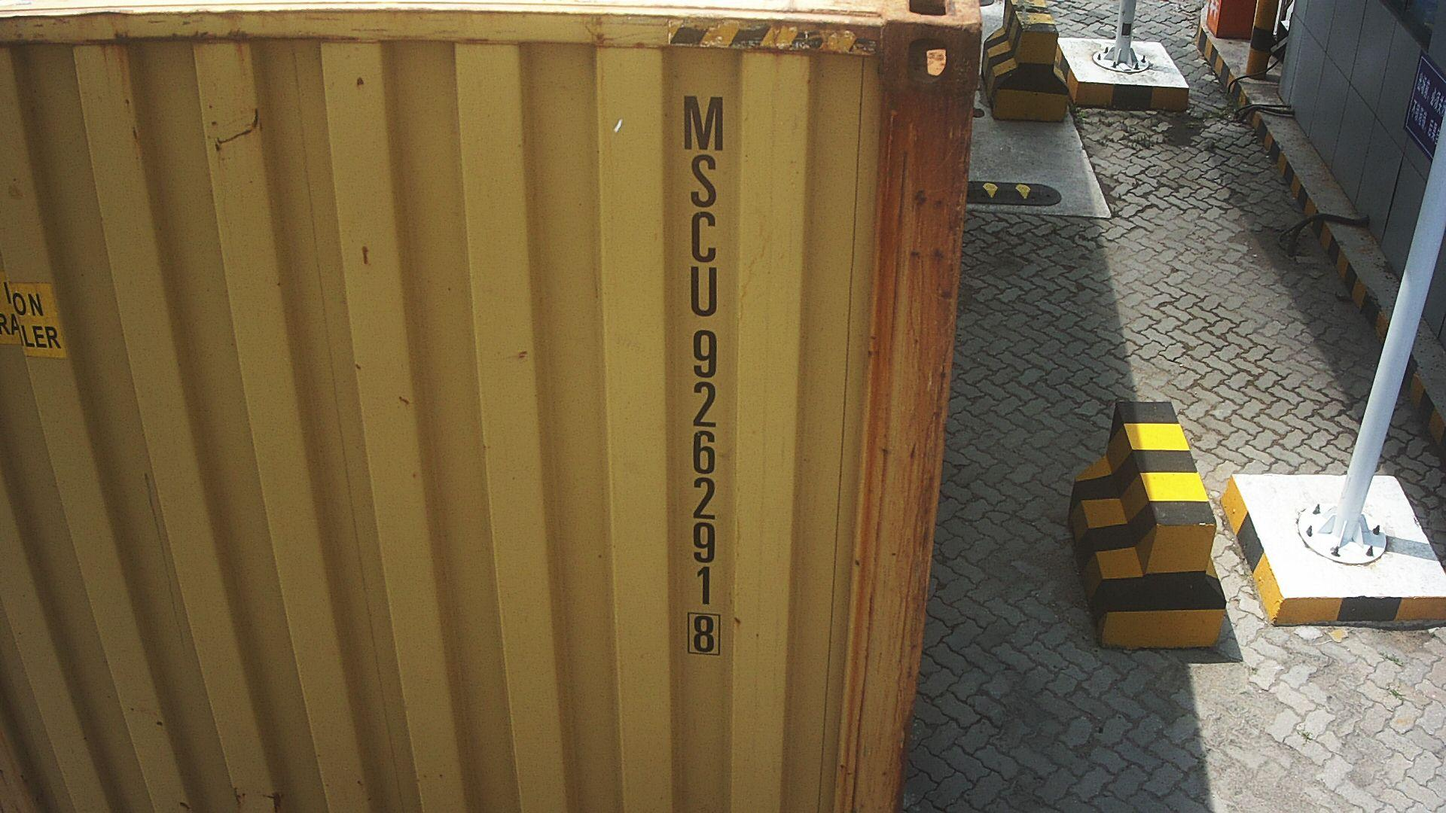container-numbers: (674, 87, 734, 659)
